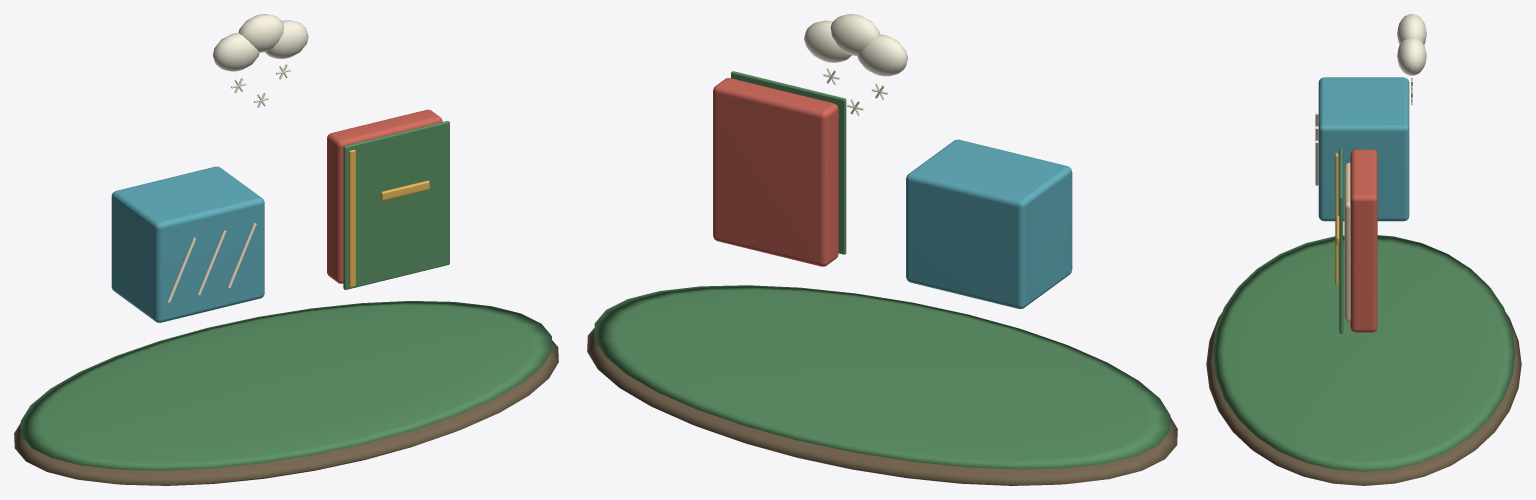
File: complete-third-chilly-pretend-school.glb
3 views of the same model, side by side, from view 1: azimuth 30°, elevation 25°; view 2: azimuth 150°, elevation 25°; view 3: azimuth 270°, elevation 25° (orthographic). The views are drawn at different scales.
Parts seen in each view (by area): view 1: complete-third-chilly-pretend-school_surface_01, complete-third-chilly-pretend-school_surface_02, complete-third-chilly-pretend-school_surface_00, complete-third-chilly-pretend-school_surface_03, complete-third-chilly-pretend-school_surface_04, complete-third-chilly-pretend-school_surface_06; view 2: complete-third-chilly-pretend-school_surface_01, complete-third-chilly-pretend-school_surface_02, complete-third-chilly-pretend-school_surface_04, complete-third-chilly-pretend-school_surface_00, complete-third-chilly-pretend-school_surface_03; view 3: complete-third-chilly-pretend-school_surface_01, complete-third-chilly-pretend-school_surface_02, complete-third-chilly-pretend-school_surface_00, complete-third-chilly-pretend-school_surface_04, complete-third-chilly-pretend-school_surface_03, complete-third-chilly-pretend-school_surface_05, complete-third-chilly-pretend-school_surface_06.
Boxes of the visible parts, <box> form: complete-third-chilly-pretend-school_surface_01: <box>20,121,552,470</box>; complete-third-chilly-pretend-school_surface_02: <box>111,166,264,322</box>; complete-third-chilly-pretend-school_surface_00: <box>14,340,558,485</box>; complete-third-chilly-pretend-school_surface_03: <box>167,14,308,302</box>; complete-third-chilly-pretend-school_surface_04: <box>327,109,442,283</box>; complete-third-chilly-pretend-school_surface_06: <box>349,149,429,287</box>; complete-third-chilly-pretend-school_surface_01: <box>594,71,1170,469</box>; complete-third-chilly-pretend-school_surface_02: <box>906,139,1072,308</box>; complete-third-chilly-pretend-school_surface_04: <box>713,78,838,266</box>; complete-third-chilly-pretend-school_surface_00: <box>587,328,1177,485</box>; complete-third-chilly-pretend-school_surface_03: <box>804,14,907,115</box>; complete-third-chilly-pretend-school_surface_01: <box>1212,148,1515,471</box>; complete-third-chilly-pretend-school_surface_02: <box>1318,77,1409,221</box>; complete-third-chilly-pretend-school_surface_00: <box>1206,313,1521,485</box>; complete-third-chilly-pretend-school_surface_04: <box>1350,149,1377,332</box>; complete-third-chilly-pretend-school_surface_03: <box>1315,14,1426,185</box>; complete-third-chilly-pretend-school_surface_05: <box>1344,162,1350,322</box>; complete-third-chilly-pretend-school_surface_06: <box>1335,153,1339,285</box>.
Bounding box in the file's own units: 4.56 × 3.17 × 2.5.
